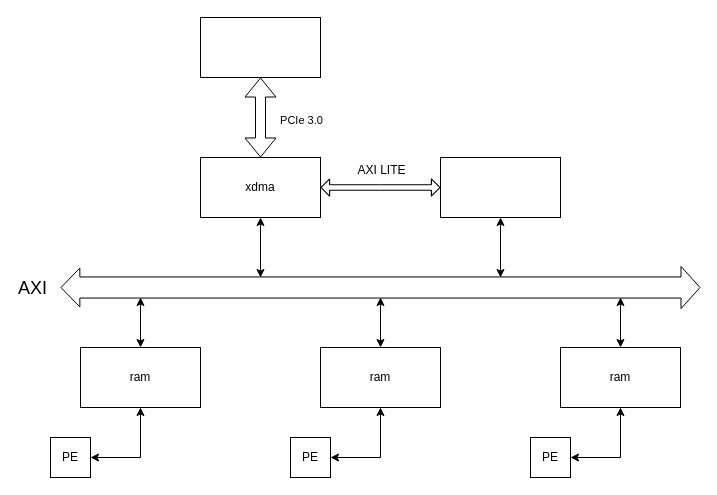
This 717x495 diagram has some shape labels left out. Each missing label, with the centre of its shape:
"cdma" goes at point 500,187.
"host(linux-x86_64)" goes at point 260,47.
